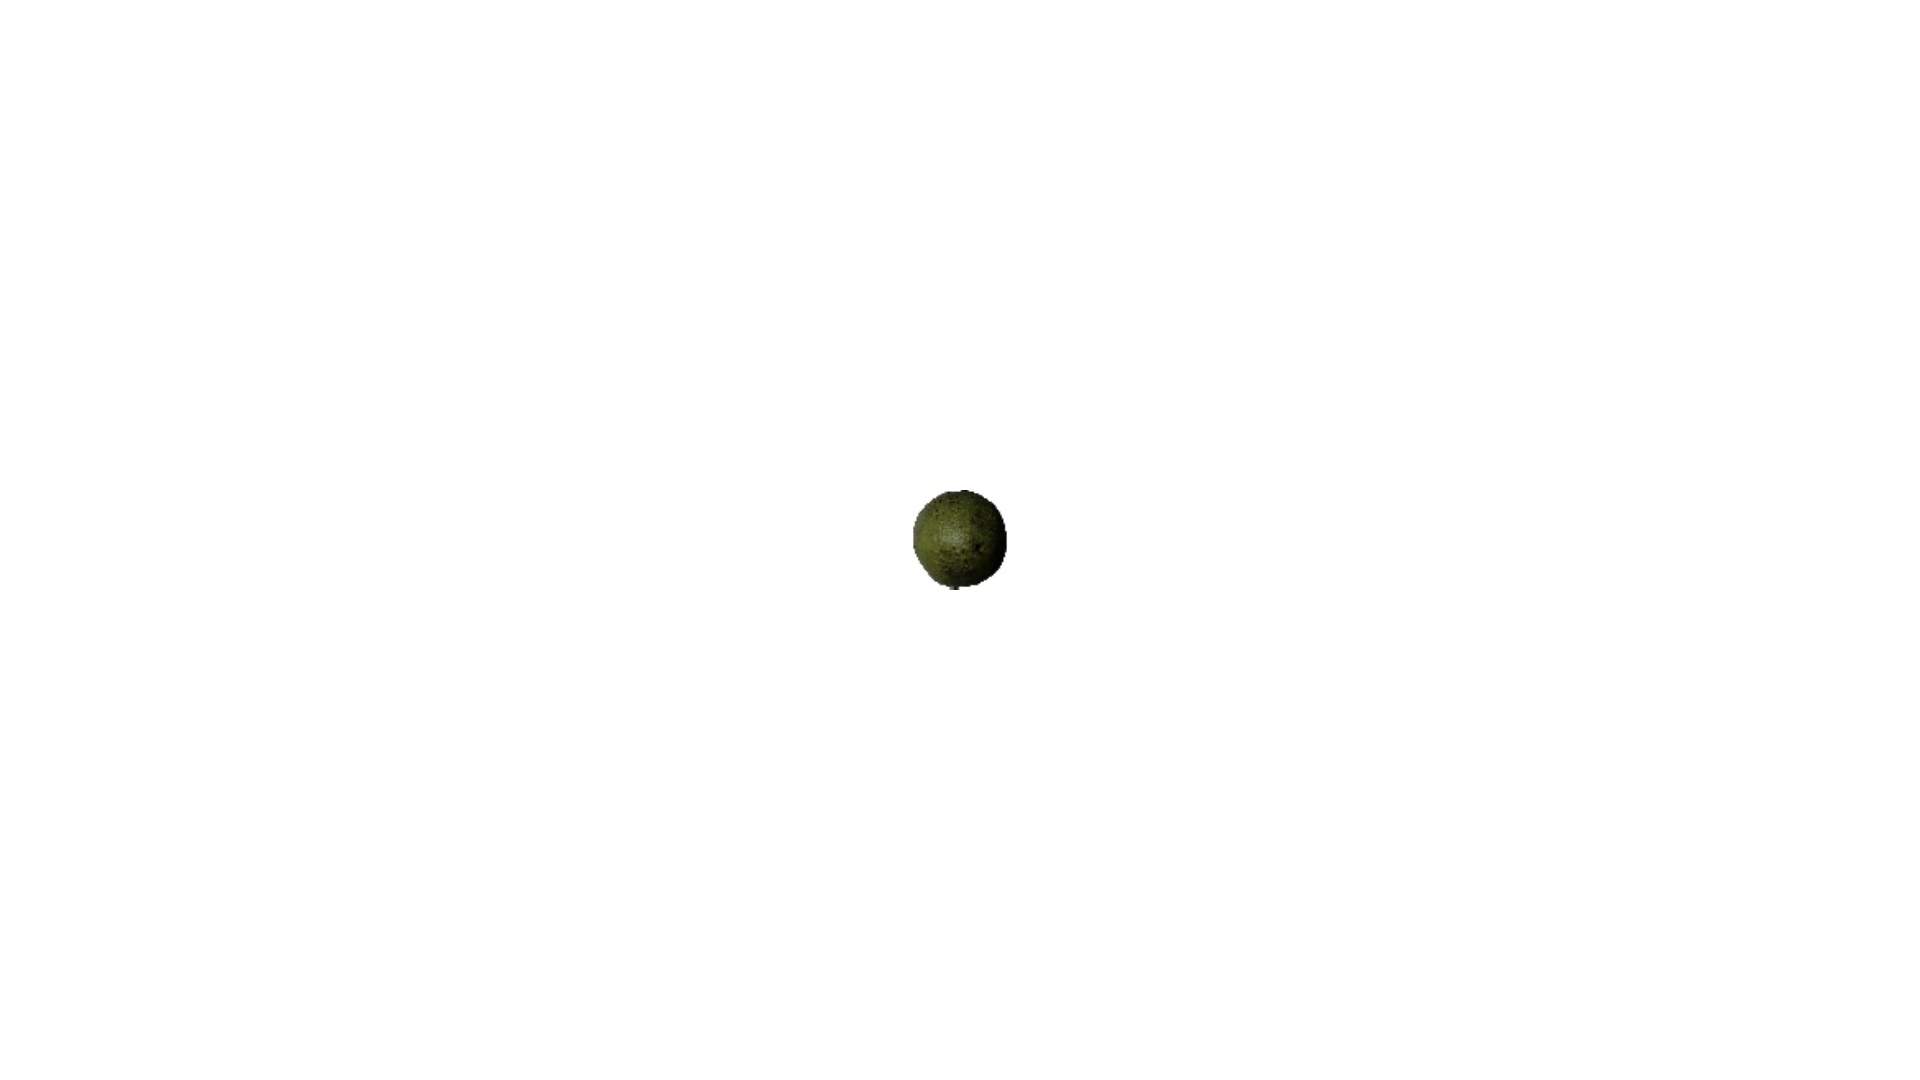abacate: (906, 484, 1010, 592)
